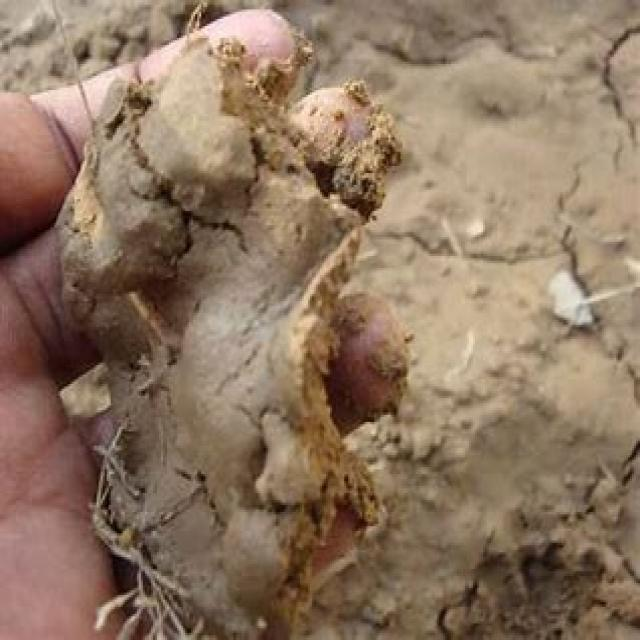Alluvial Soil: (130, 131, 303, 580)
